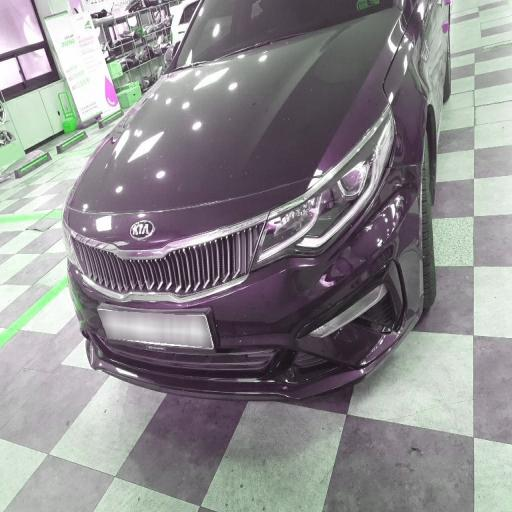dent: (94, 67, 263, 237)
